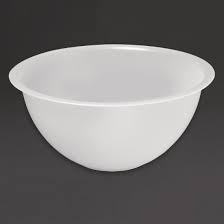bowl: (7, 41, 218, 176)
